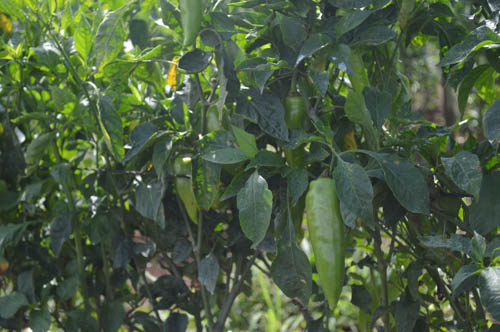ChiliPepper: (306, 180, 344, 309), (173, 157, 202, 210), (284, 96, 305, 168), (178, 1, 205, 45)
